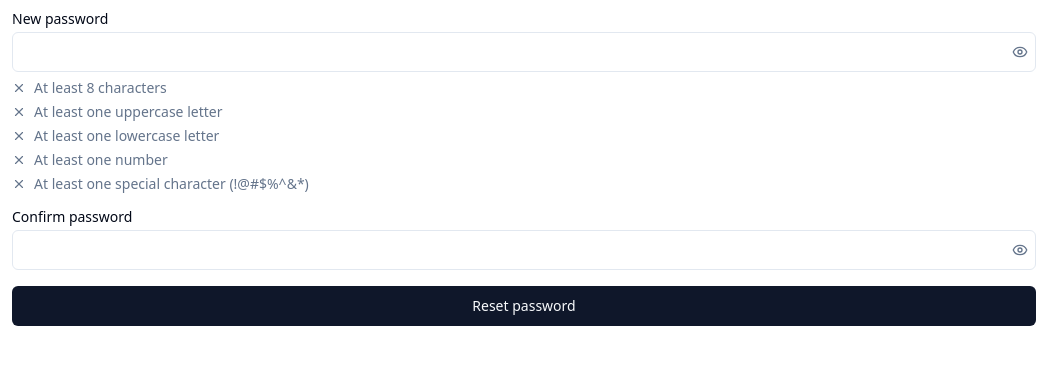
Test: ResetPasswordForm › shows a banner for PASSWORD_SAME_AS_CURRENT (422)
Type "Password1!" into the password field labelled "New password" at x=524, y=52, box [12,32,1036,72]
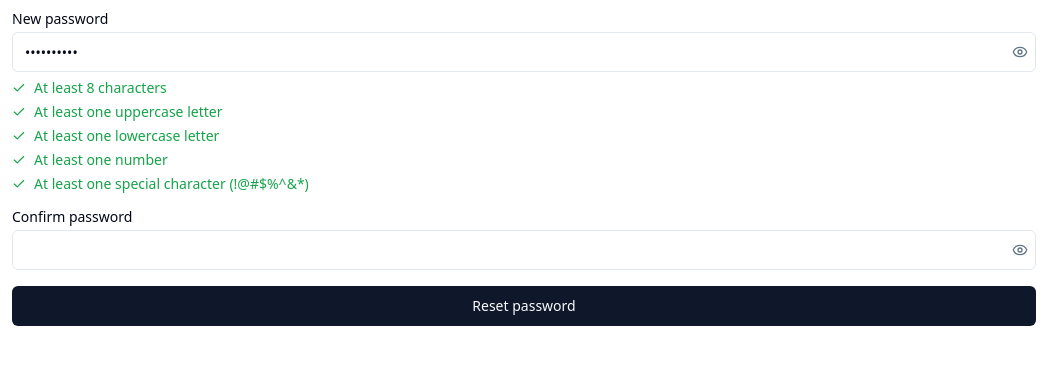
Type "Password1!" into the password field labelled "Confirm password" at x=524, y=250, box [12,230,1036,270]
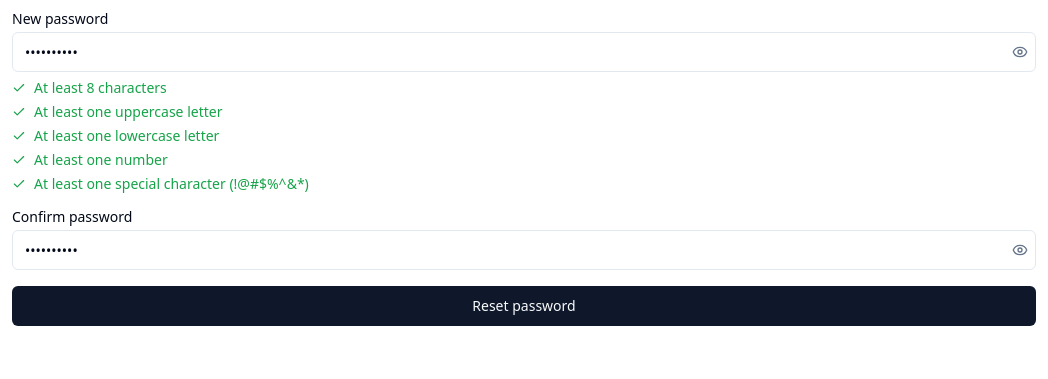
Click the button "Reset password" at x=524, y=306, box [12,286,1036,326]
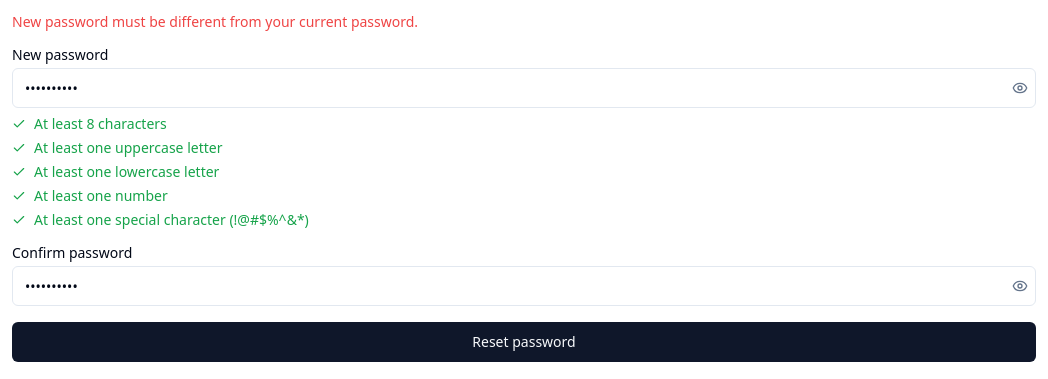
Expected: the text "New password must be different from your current password." is shown, [12,12,418,31]
